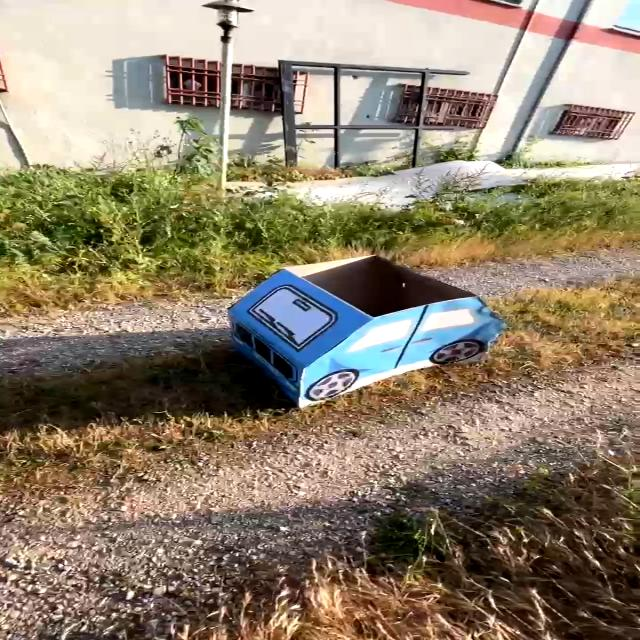blue_car: (157, 229, 534, 426)
